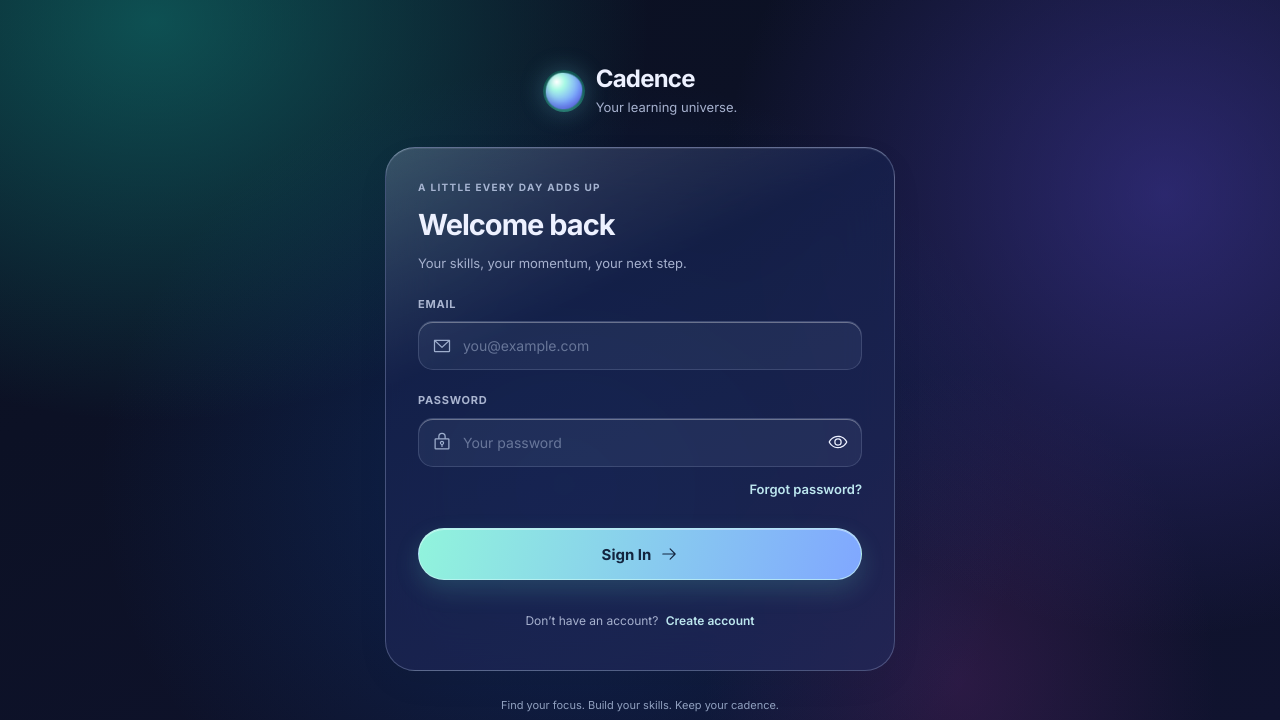
Test: Supabase authentication flows › handles incorrect passwords without granting app access
This screenshot has width=1280, height=720.
Expected: the button "Sign In" is shown, [418,528,862,580]
Type "user@example.test" into the field labelled "EMAIL". click: (640, 346)
box: [418,321,862,370]
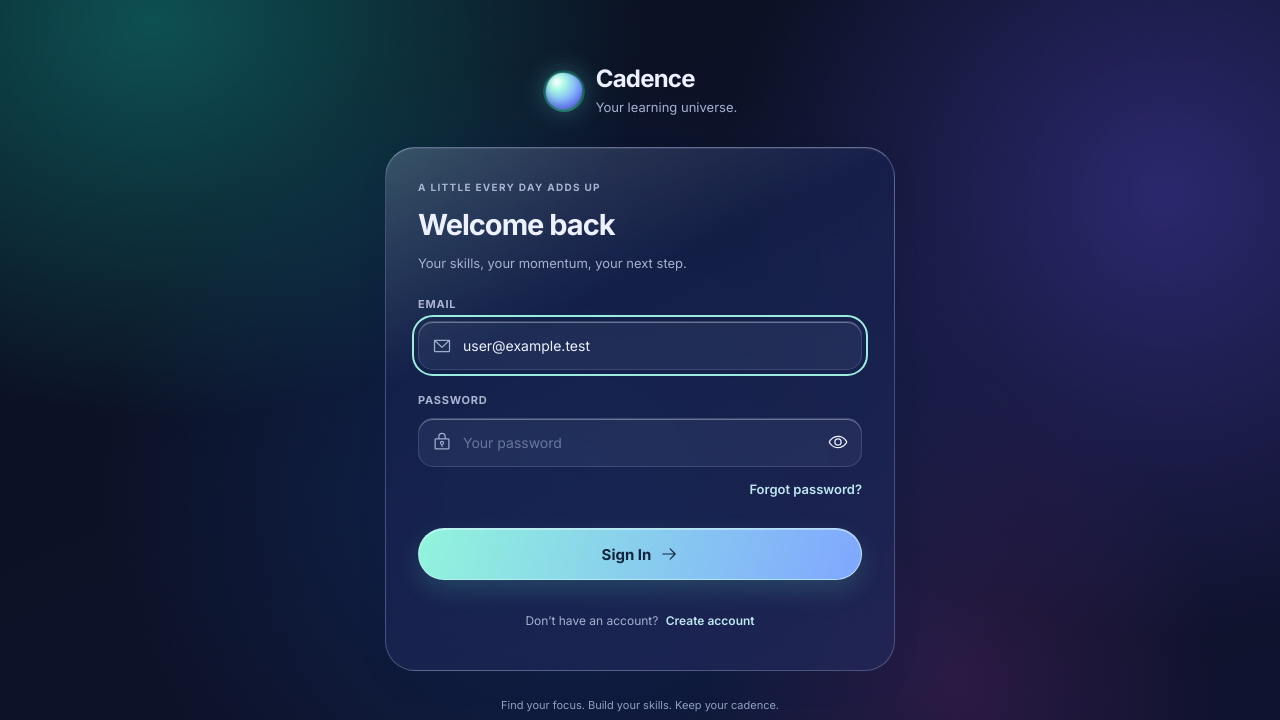
Type "wrong-password" into the password field labelled "PASSWORD". click: (640, 442)
box: [418,418,862,467]
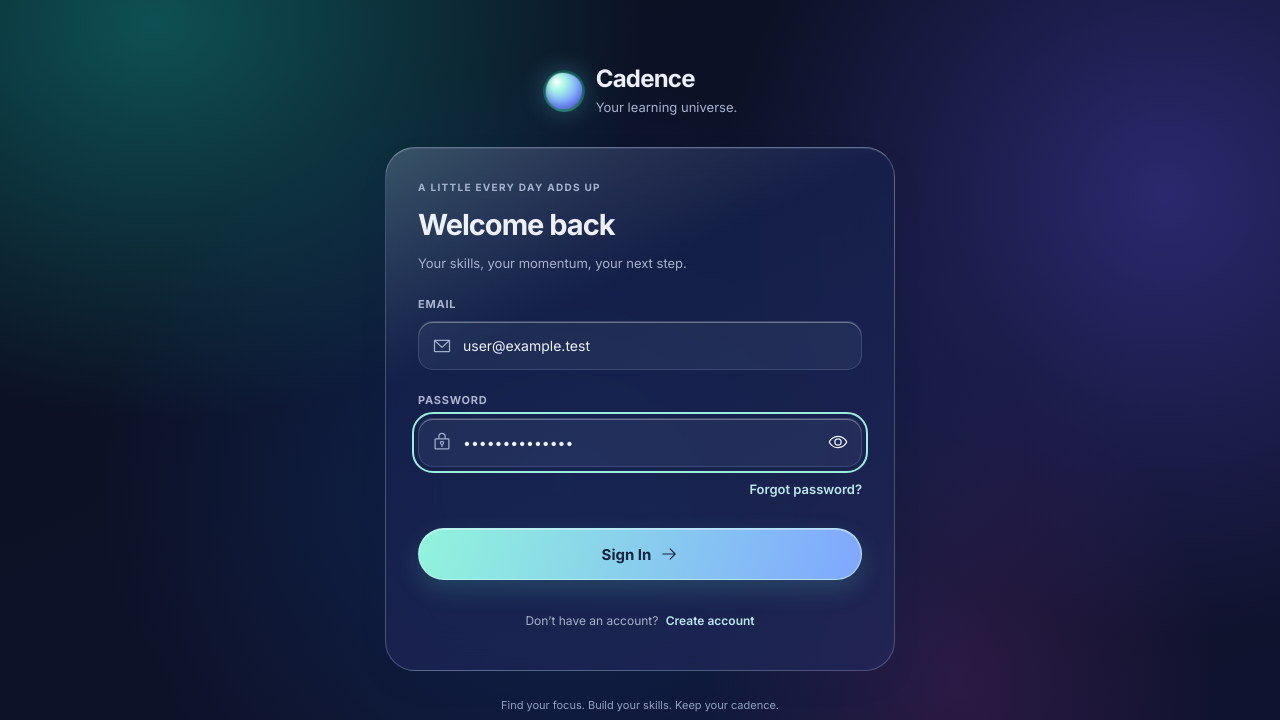
Click the button "Sign In". click: (640, 554)
box: [418,528,862,580]
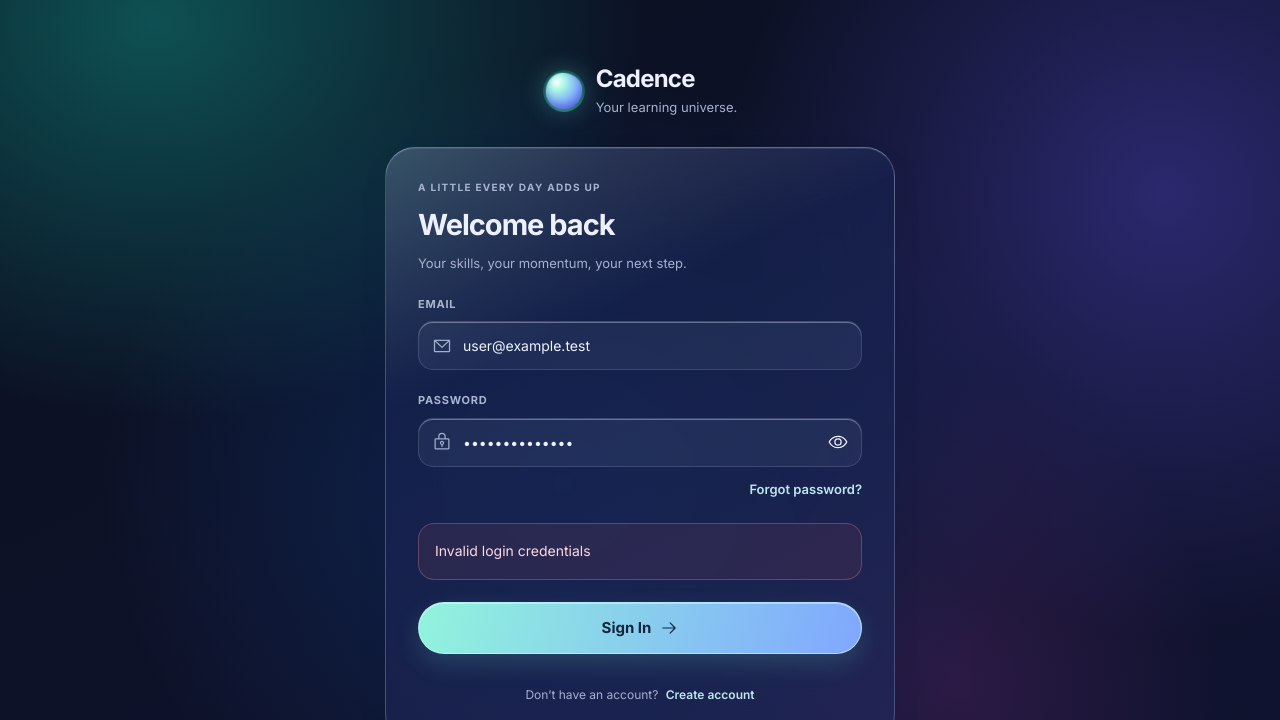
Result: the message shows "Invalid login" at [435,542,591,559]
